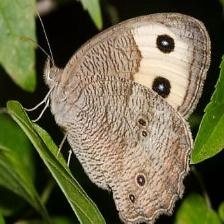butterfly: (44, 13, 211, 224)
